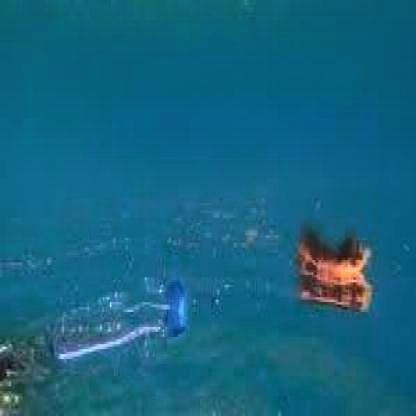misc: (285, 220, 377, 292)
pbottle: (35, 270, 203, 364)
